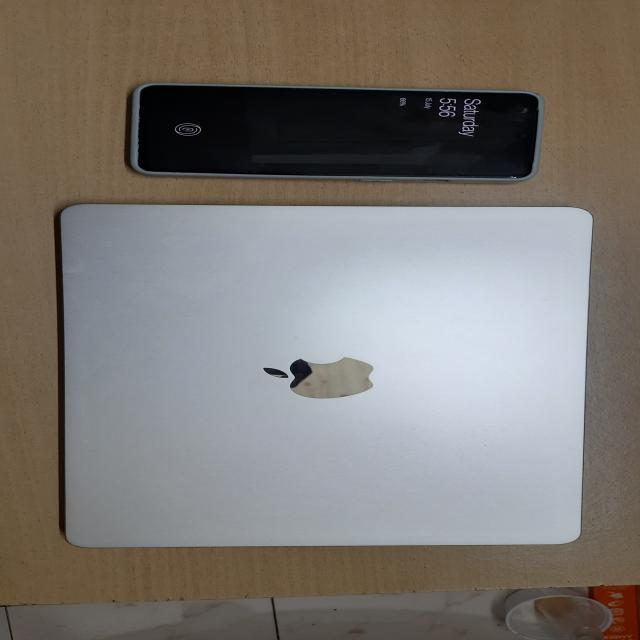Laptop-and-Mobile: (42, 201, 587, 552)
Mobile: (126, 79, 580, 187)
